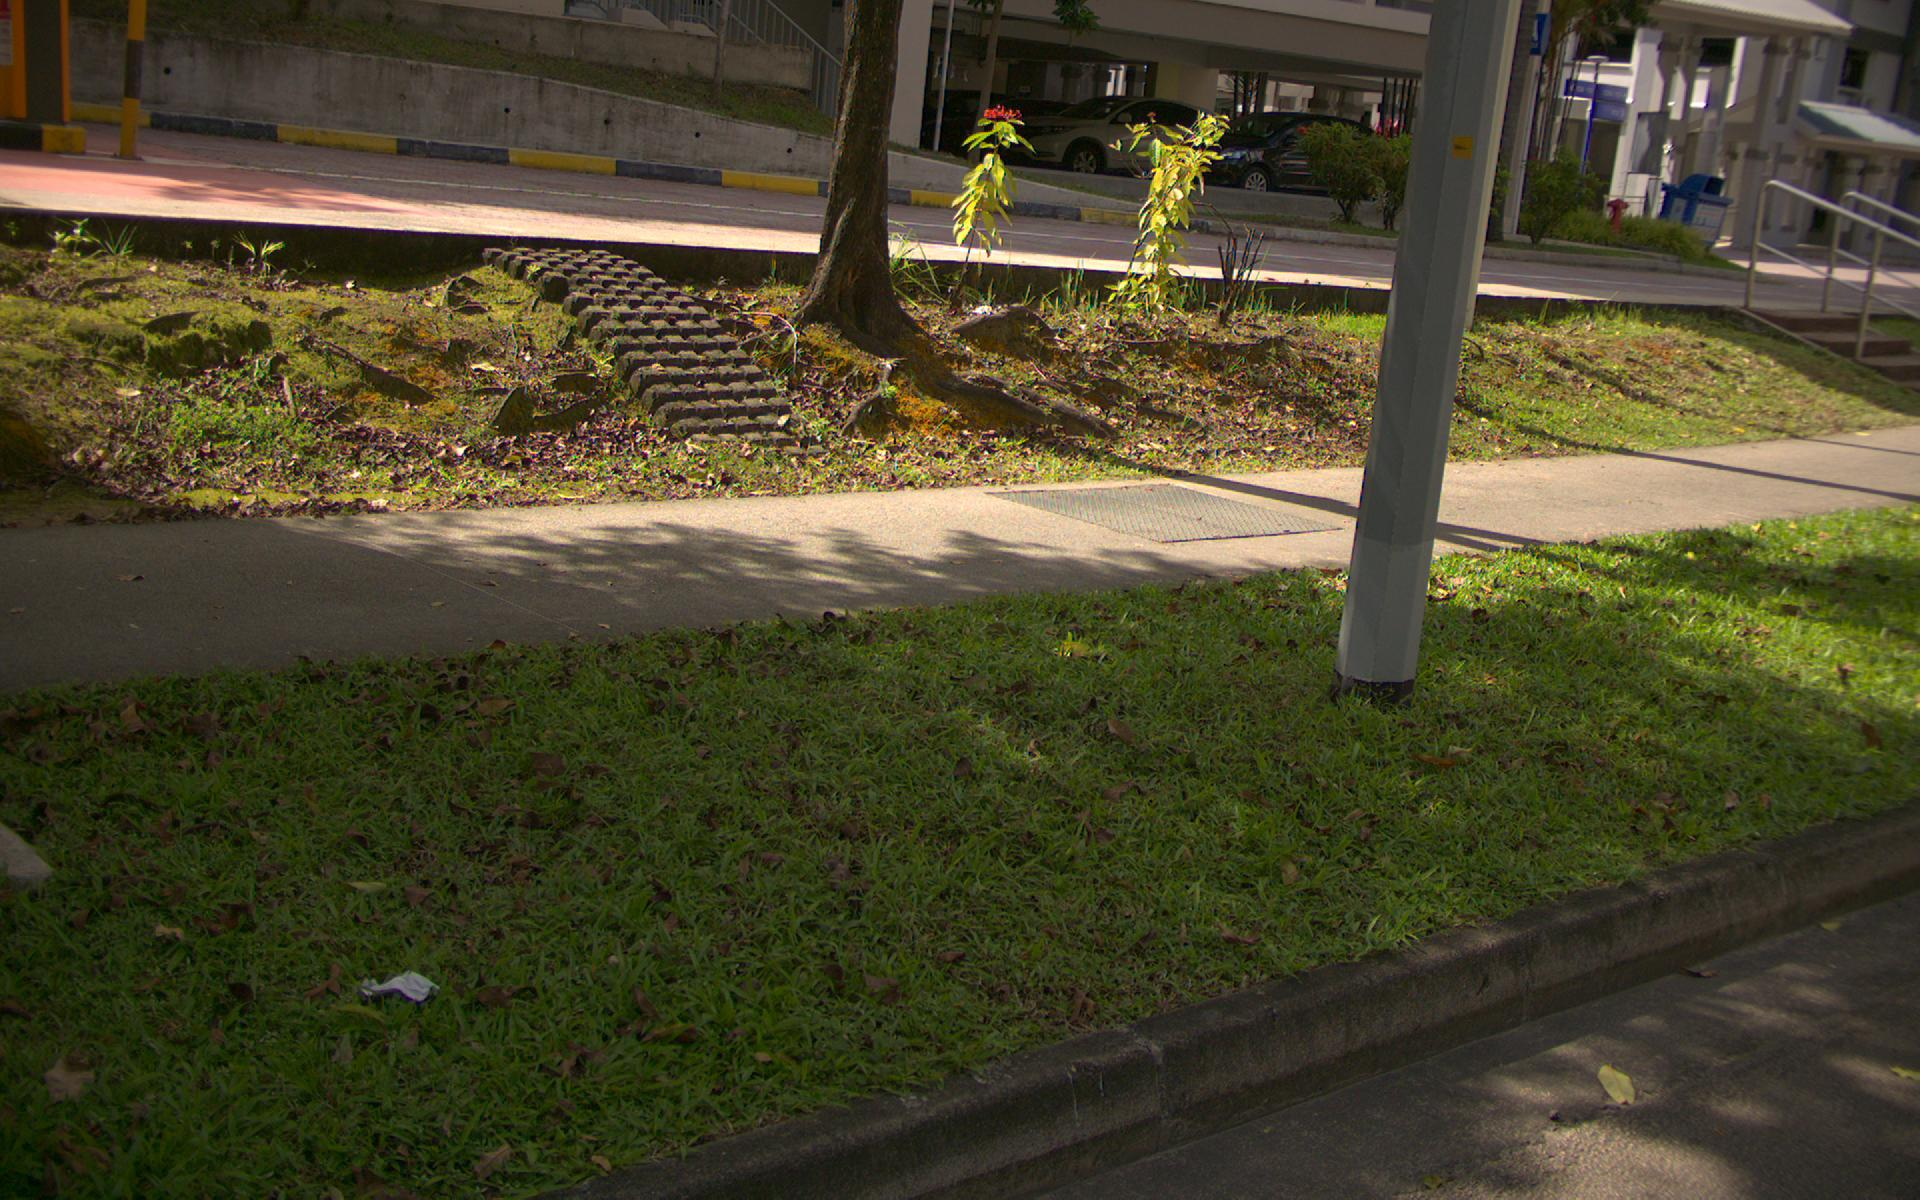road_turf_low: (15, 512, 1913, 1185)
